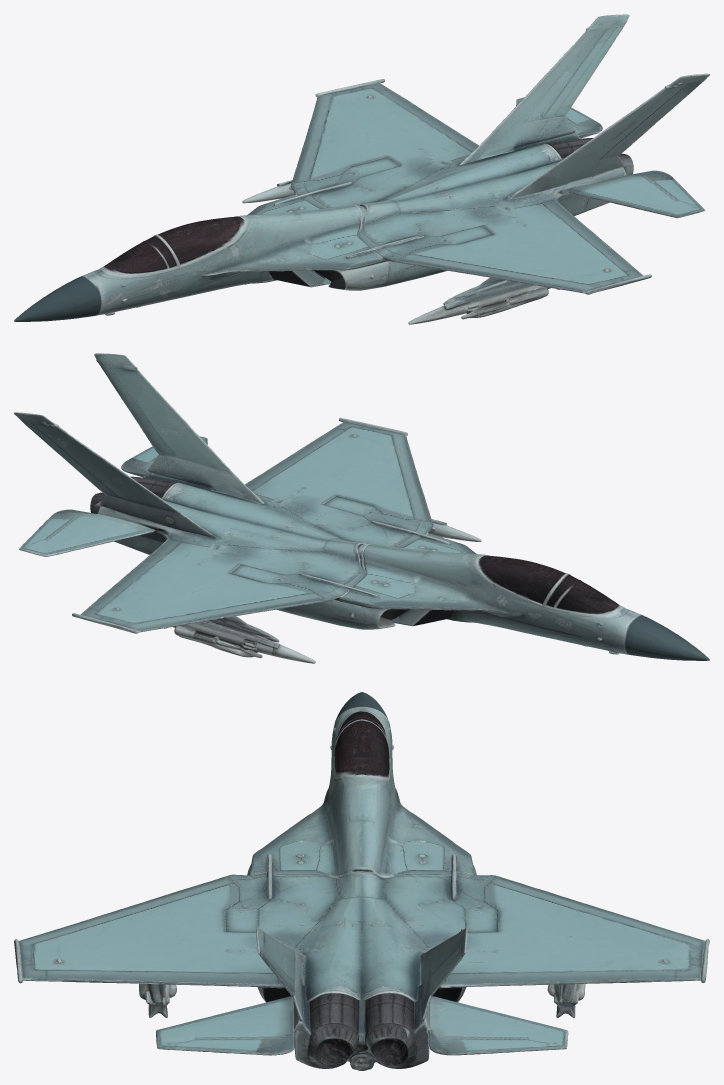
File: typhoon.glb
3 renders of one model, top to bottom at view 1: azimuth 30°, elevation 25°; view 2: azimuth 150°, elevation 25°; view 3: azimuth 270°, elevation 25°, orthographic. The views are drawn at different scales.
Bounding box in the file's own units: 1.9 × 0.4114 × 1.37.
1 material, 1 textured.
